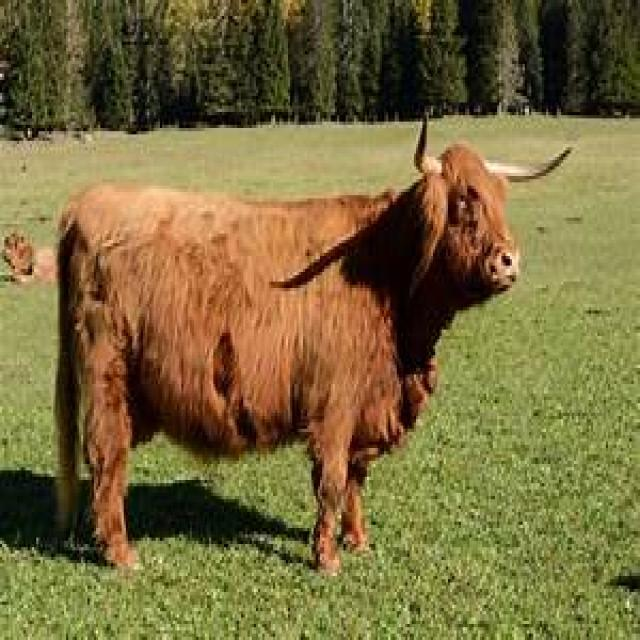cow: (55, 141, 570, 579)
